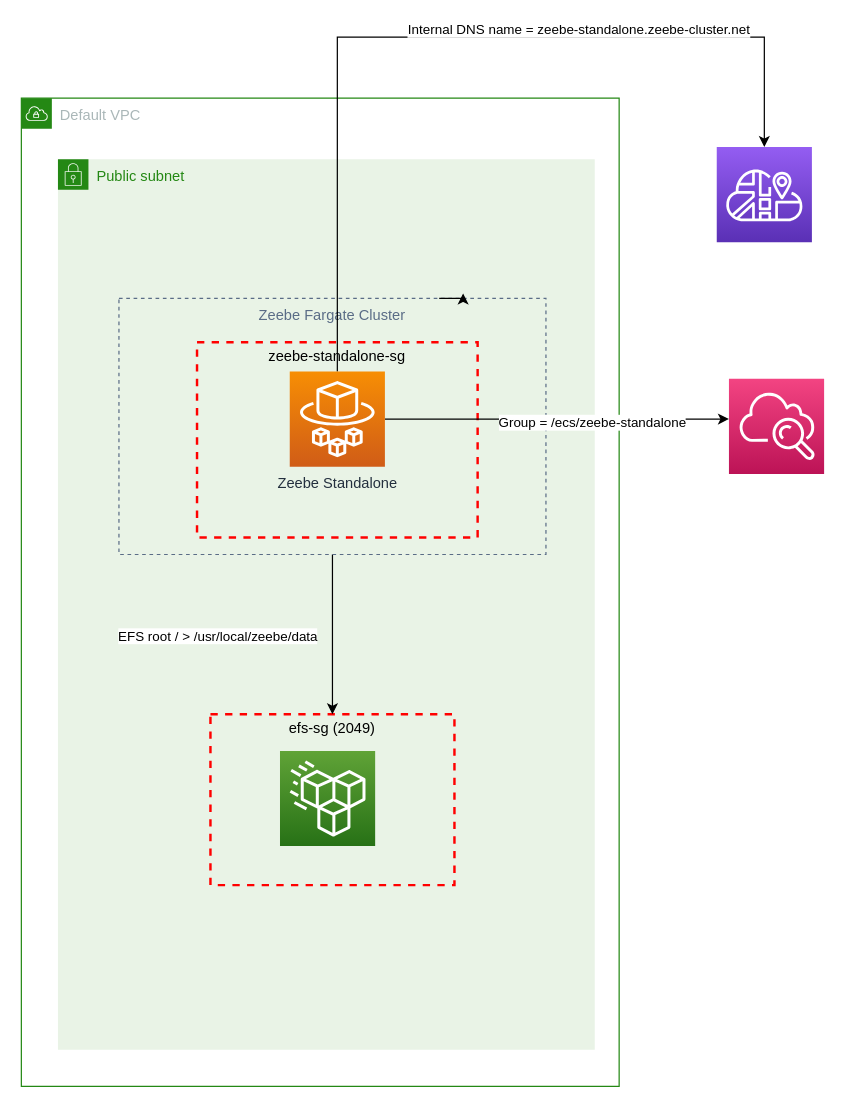
This 845x1108 diagram has some shape labels left out. The shapes that lost their labels are listed below. From the top down, each one's centre as x and y in pixels, then its label:
At point (764, 194): "zeebe-cluster.net".
At point (776, 426): "Amazon CloudWatch".
At point (327, 798): "EFS".
